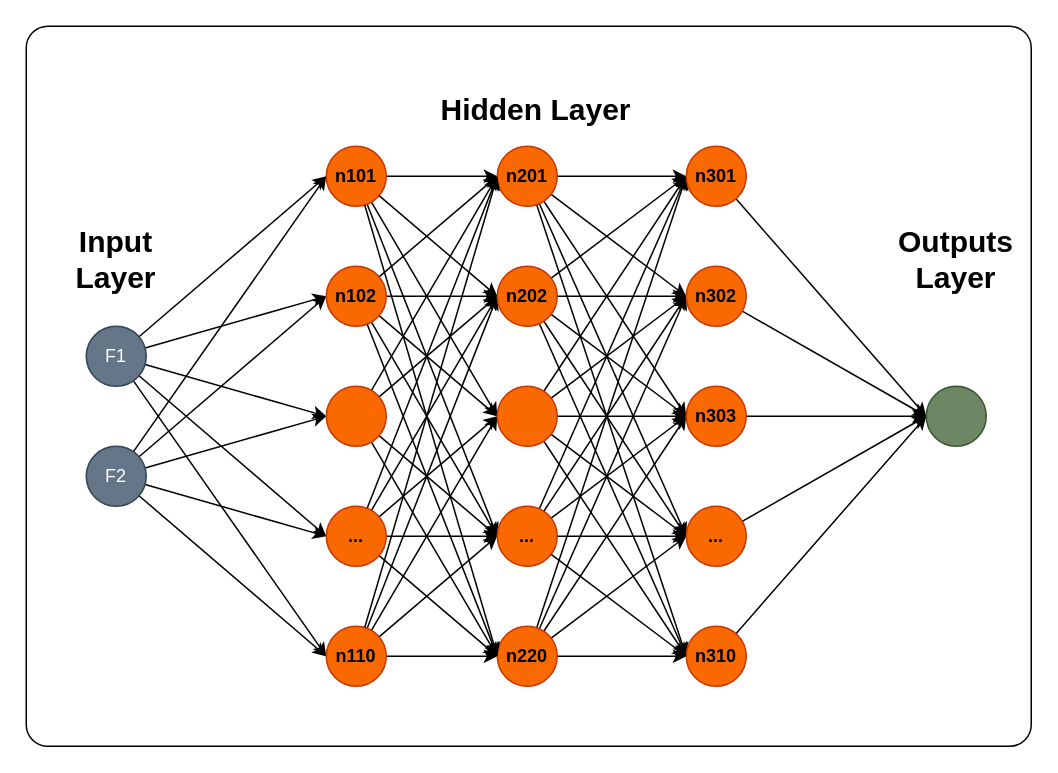
Image size: 1058x773. Some labels were removed from this diagram. Here are the shapes that lost their labels. From the top down, the centre of each, then its label:
At pixel 355 415: "n103".
At pixel 526 415: "n203".
At pixel 955 415: "O1".
